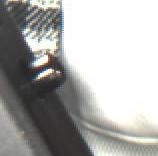screw: (22, 48, 65, 98)
